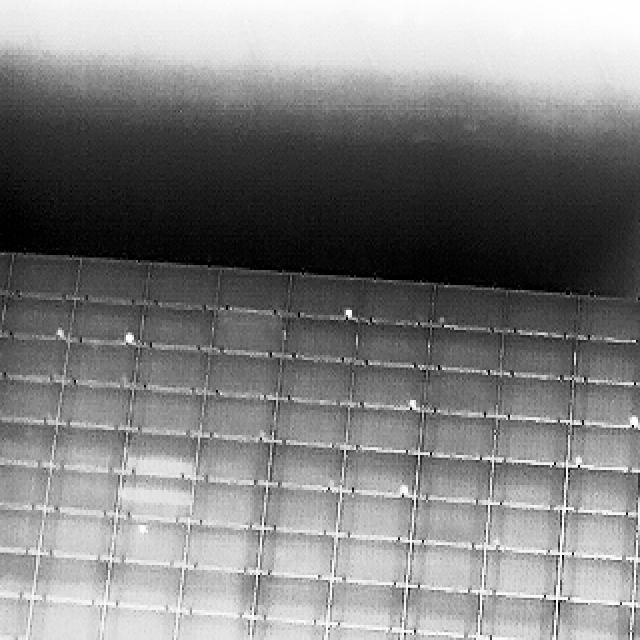Hotspots: (398, 480, 418, 497), (124, 331, 143, 348), (337, 302, 358, 317), (626, 405, 640, 427), (135, 522, 151, 536), (572, 456, 584, 468)
PV-modules: (31, 555, 112, 608), (352, 276, 432, 326), (424, 365, 502, 416), (405, 542, 481, 594), (39, 510, 115, 562), (178, 566, 257, 616), (249, 574, 327, 624), (192, 436, 270, 486), (502, 287, 581, 336), (333, 491, 410, 541), (103, 562, 180, 612), (183, 526, 260, 576), (326, 579, 403, 629), (493, 415, 568, 466), (409, 497, 484, 548), (328, 538, 406, 587), (255, 532, 333, 581), (264, 485, 340, 535), (556, 554, 632, 604), (54, 382, 130, 432), (401, 590, 478, 639), (341, 403, 418, 452), (134, 307, 216, 353), (273, 399, 348, 449), (342, 447, 414, 499), (562, 514, 638, 563), (129, 389, 205, 438), (566, 468, 640, 518), (207, 349, 281, 399), (484, 548, 561, 596), (412, 458, 489, 506), (115, 475, 192, 523), (187, 481, 262, 530), (42, 469, 117, 518), (490, 461, 566, 509), (145, 264, 222, 311), (50, 425, 125, 473), (283, 270, 358, 318), (500, 373, 573, 422), (486, 505, 562, 552), (428, 328, 502, 376), (279, 356, 356, 402), (214, 311, 286, 360), (422, 412, 497, 459), (122, 430, 197, 477), (478, 595, 556, 640), (136, 348, 214, 393), (502, 332, 575, 380), (7, 254, 80, 302), (75, 258, 148, 306), (197, 396, 273, 442), (0, 510, 40, 596), (281, 317, 355, 363), (359, 322, 431, 369), (0, 333, 65, 385), (268, 444, 343, 489), (110, 520, 183, 566), (568, 382, 639, 429), (568, 422, 640, 468), (4, 293, 75, 339), (572, 340, 640, 388), (350, 363, 424, 407), (57, 344, 130, 388), (20, 600, 100, 640), (430, 284, 501, 329), (214, 268, 286, 312), (550, 600, 626, 640), (72, 298, 141, 342), (578, 295, 640, 340), (0, 379, 57, 426), (98, 605, 174, 640), (0, 463, 50, 513), (0, 420, 52, 468), (170, 612, 248, 640), (0, 505, 43, 554), (248, 617, 328, 640), (0, 550, 36, 599), (0, 597, 28, 640), (320, 625, 398, 640), (396, 632, 476, 640), (0, 255, 14, 300), (632, 515, 640, 565), (632, 562, 640, 610), (632, 605, 640, 640), (476, 637, 552, 640), (0, 635, 20, 640)
